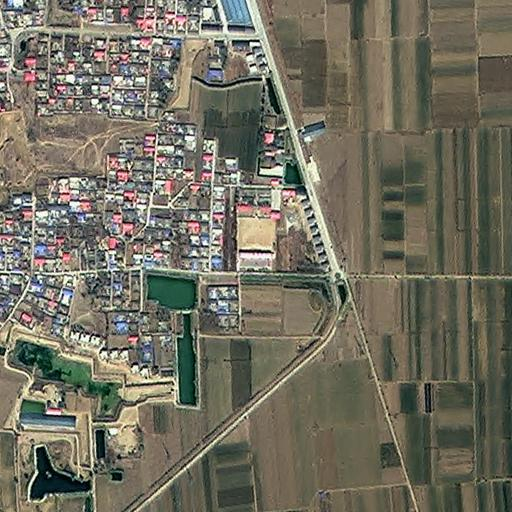school: (234, 183, 278, 276)
